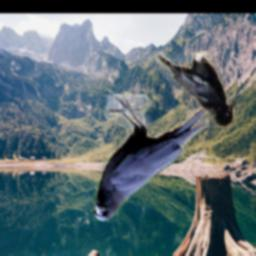Crow: (90, 94, 209, 221), (156, 52, 236, 129)
